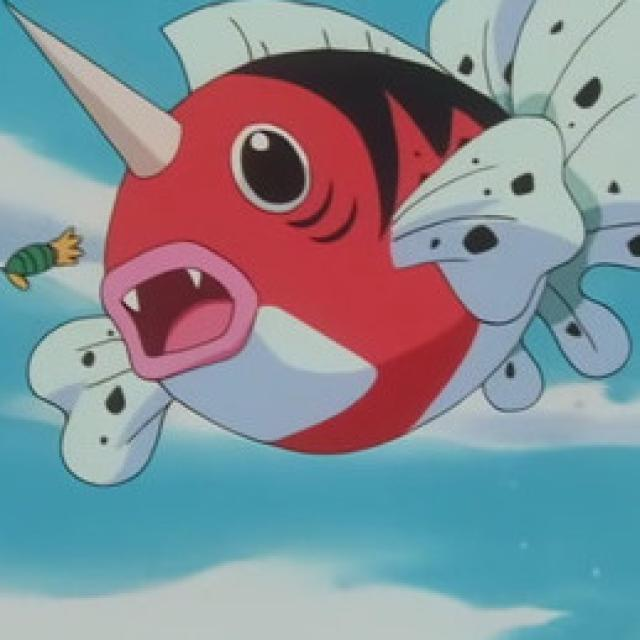Seaking: (67, 55, 608, 480)
